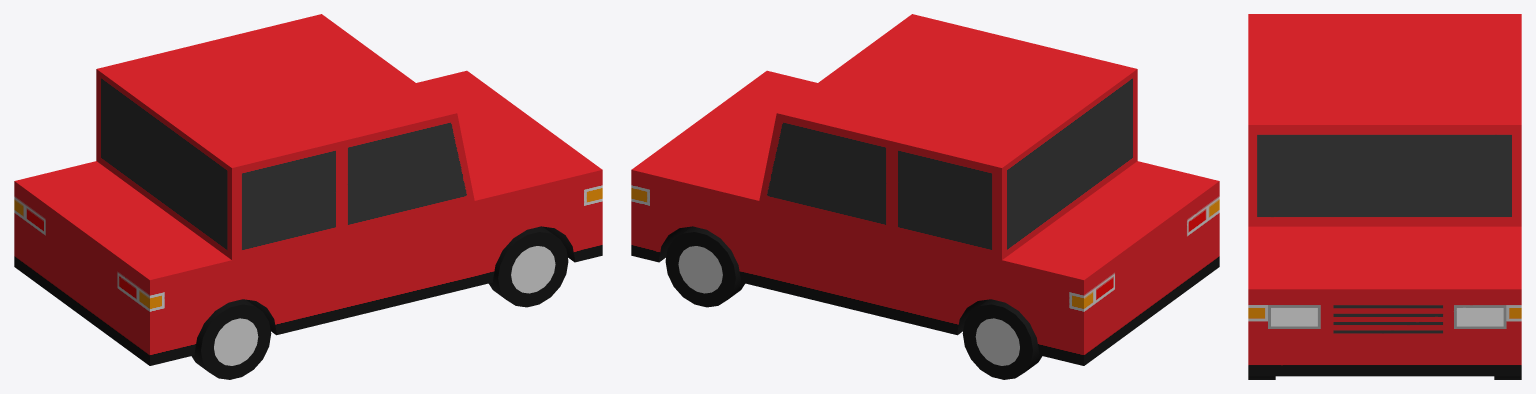
File: Sedan.FBX
3 renders of one model, left to right at view 1: azimuth 30°, elevation 25°; view 2: azimuth 150°, elevation 25°; view 3: azimuth 270°, elevation 25°, orthographic.
Parts seen in each view (by area): view 1: Box001; view 2: Box001; view 3: Box001.
Boxes of the visible parts, bbox=[...] form: Box001: bbox=[14, 14, 602, 379]; Box001: bbox=[631, 14, 1219, 379]; Box001: bbox=[1248, 14, 1521, 379].
Size of the model in its own units: 0.98 by 0.4373 by 0.508.
Materials: 1 (1 with a texture image).
